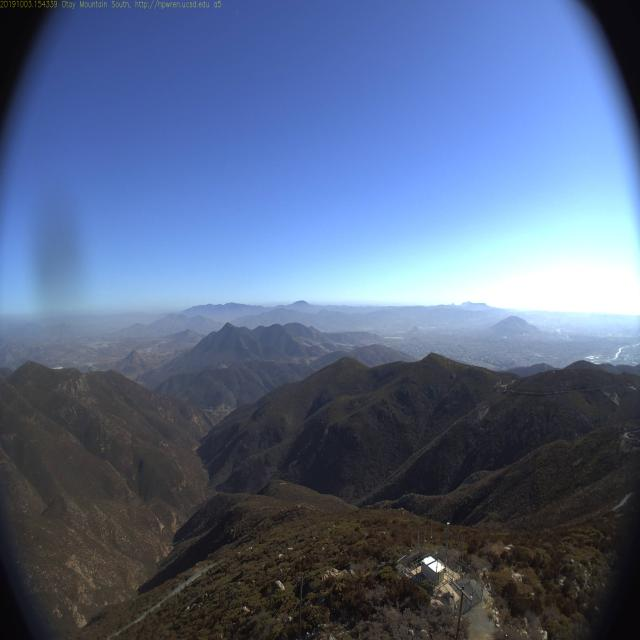smoke: (540, 322, 579, 342)
